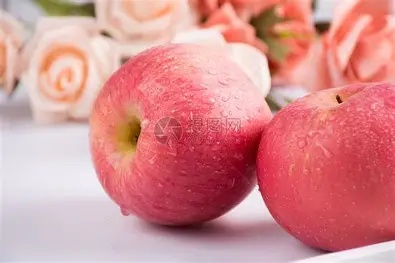ripe_apple: (88, 38, 272, 225), (255, 81, 395, 253)
